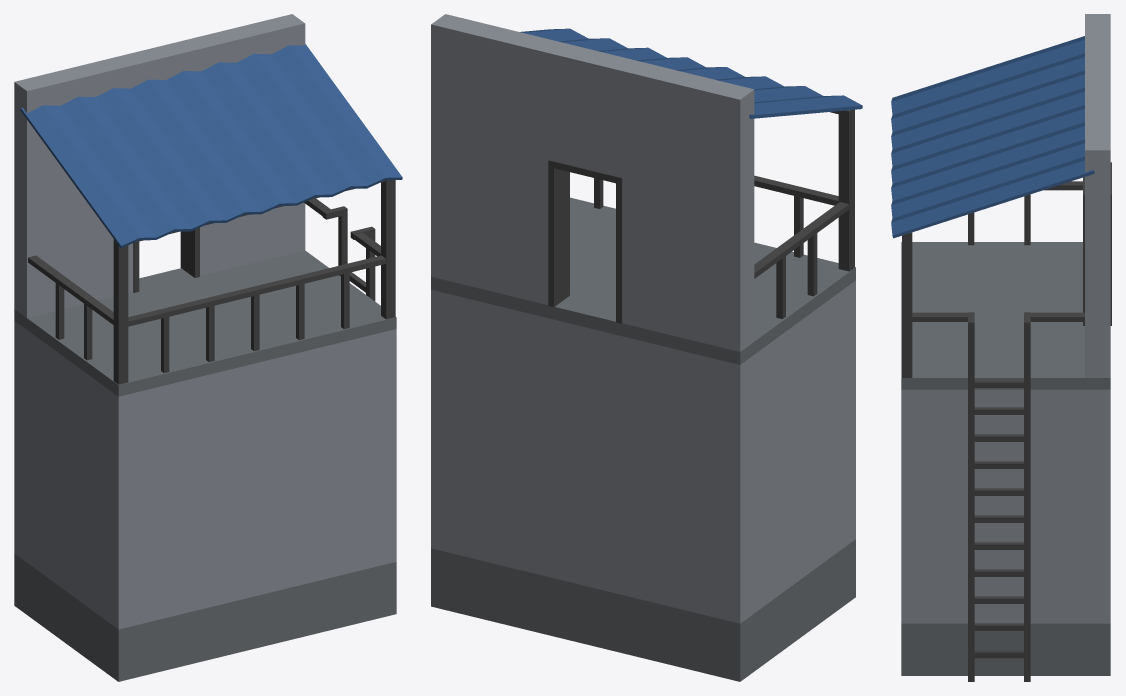
File: Wall3_05.fbx
3 renders of one model, left to right at view 1: azimuth 30°, elevation 25°; view 2: azimuth 150°, elevation 25°; view 3: azimuth 270°, elevation 25°, orthographic. The views are drawn at different scales.
Parts seen in each view (by area): view 1: Wall3_05; view 2: Wall3_05; view 3: Wall3_05.
Part boxes in pixels (x1,y1,x2,y2): Wall3_05: (14,14,402,681); Wall3_05: (431,14,862,681); Wall3_05: (891,14,1111,681).
Bounding box in the file's own units: 525 × 900 × 342.
